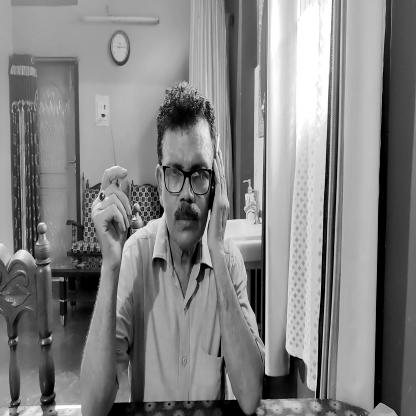Normal: (154, 86, 216, 254)
